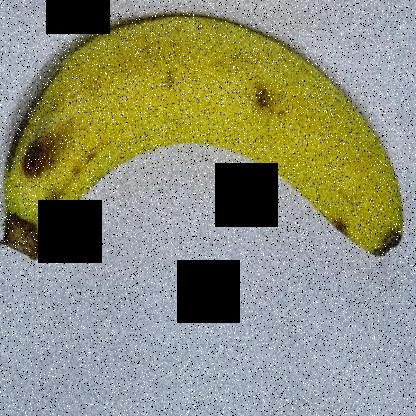freshripe: (1, 1, 413, 291)
